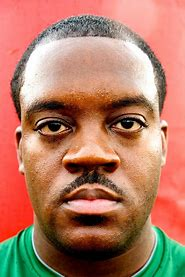person: (11, 15, 168, 260)
